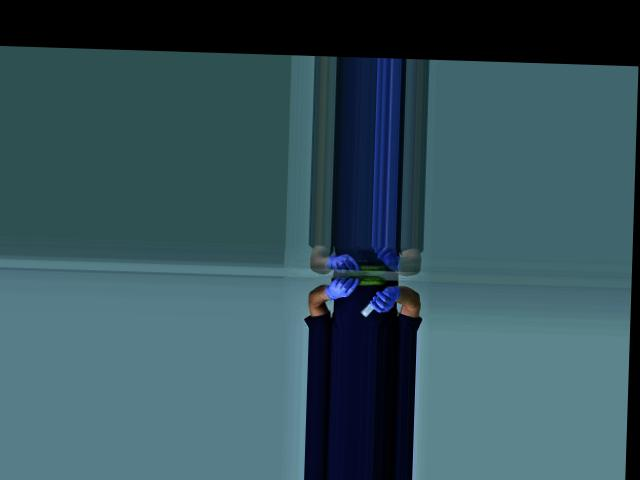cucumber: (347, 274, 386, 286)
